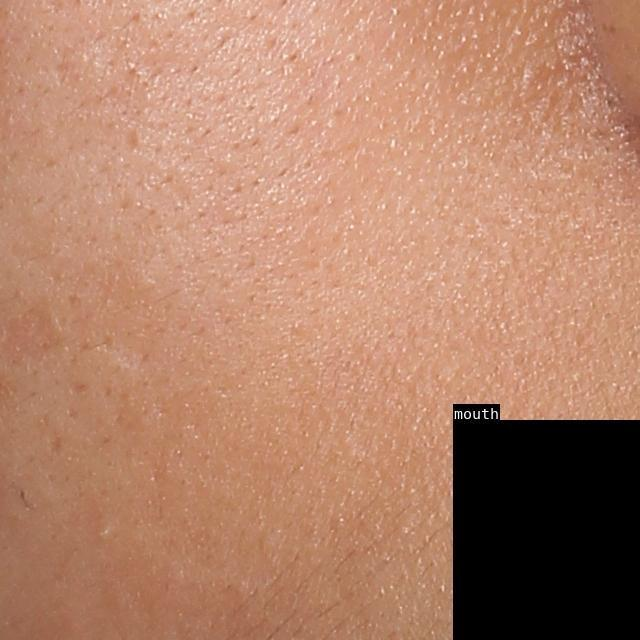atrophic_scar: (123, 126, 141, 154)
comedo: (95, 522, 111, 540)
